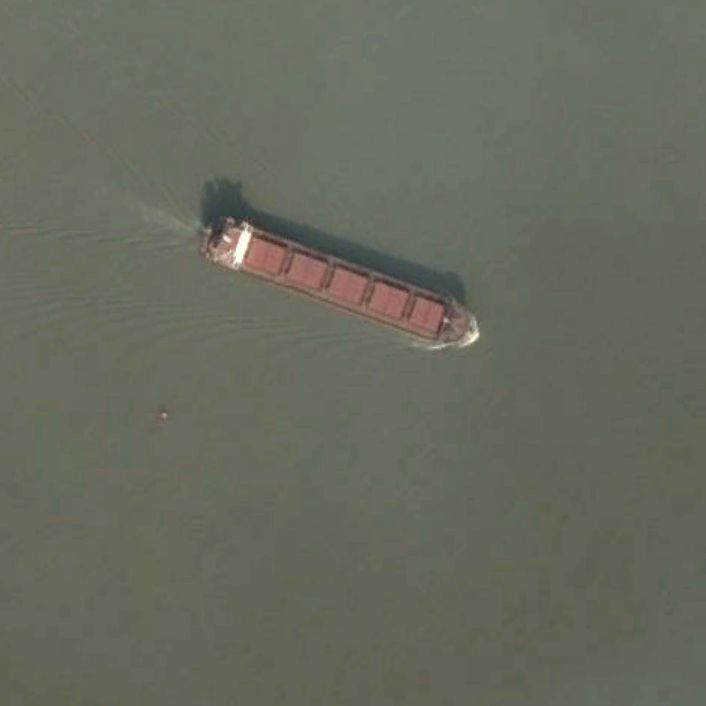boat: (191, 210, 481, 351)
